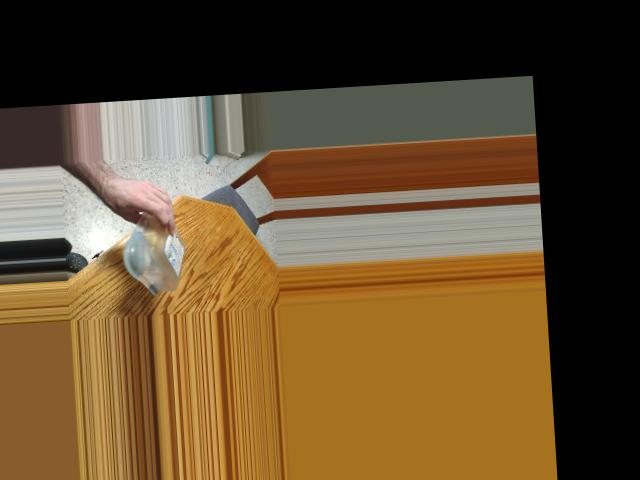cheese: (127, 197, 184, 291)
